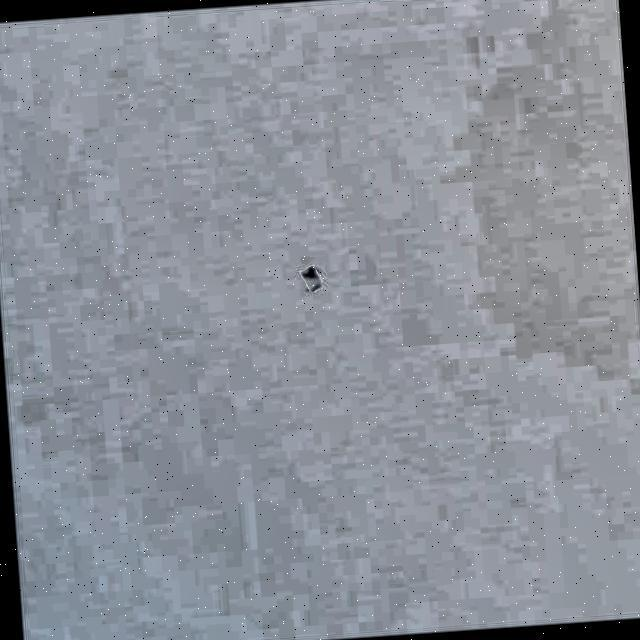iha: (292, 261, 328, 309)
